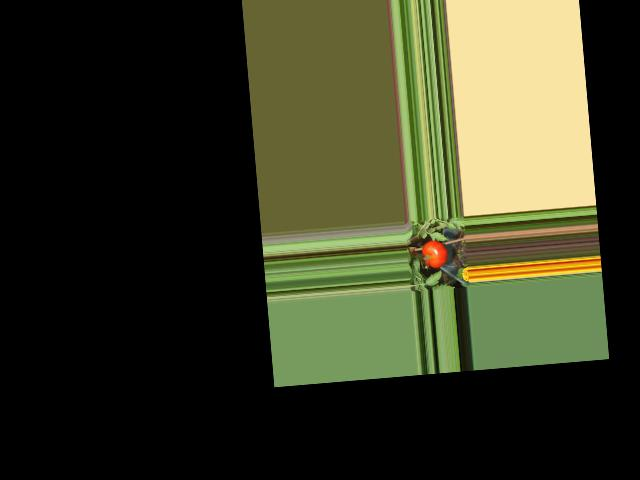tomato: (421, 238, 448, 269)
